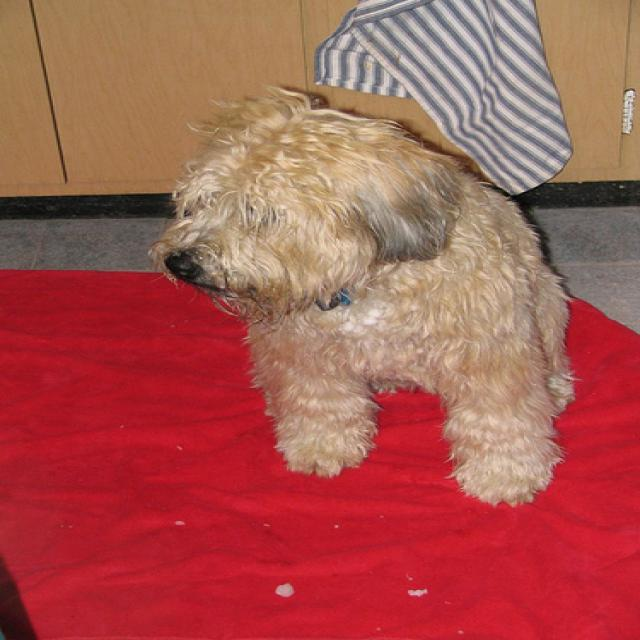dog-wheaten_terrier: (143, 83, 577, 509)
